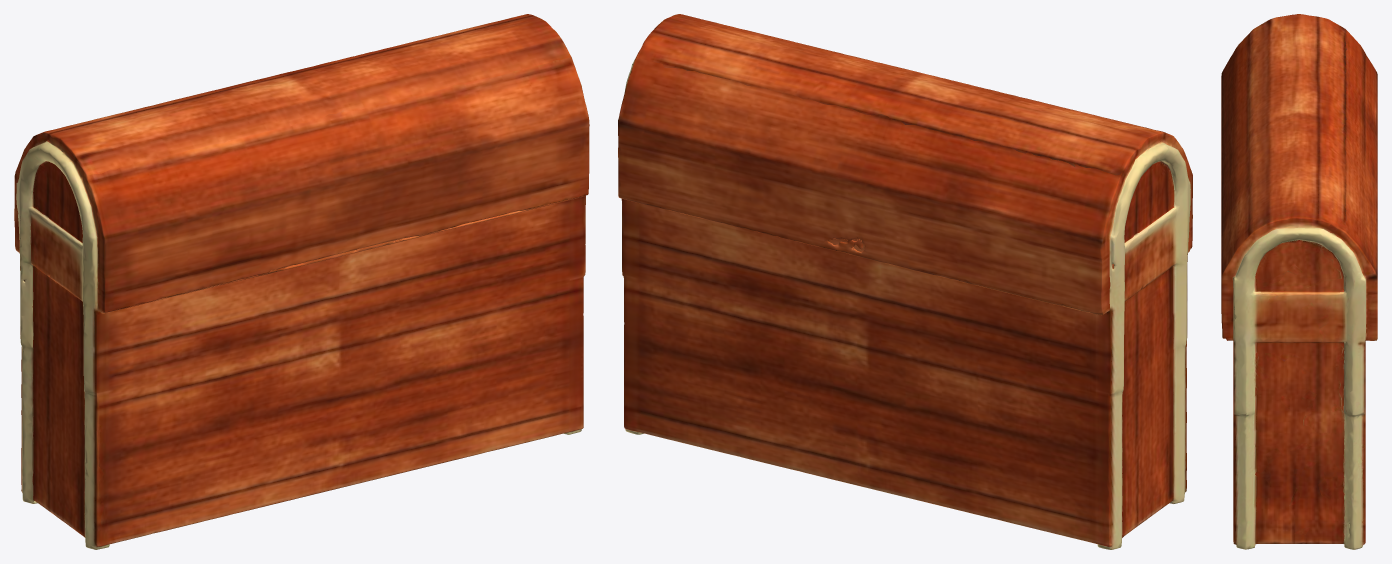
Rendered from wooden_2.glb.
The picture shows the model from 3 angles, left to right: view 1: azimuth 30°, elevation 25°; view 2: azimuth 150°, elevation 25°; view 3: azimuth 270°, elevation 25°; orthographic projection. The views are drawn at different scales.
Visible parts, largest first — view 1: geometry_0; view 2: geometry_0; view 3: geometry_0.
Part boxes in pixels (x1,y1,x2,y2): geometry_0: (14, 14, 589, 549); geometry_0: (618, 14, 1192, 549); geometry_0: (1221, 14, 1377, 549).
Bounding box in the file's own units: 1 × 0.7386 × 0.3161.
Materials: 1 (1 with a texture image).
